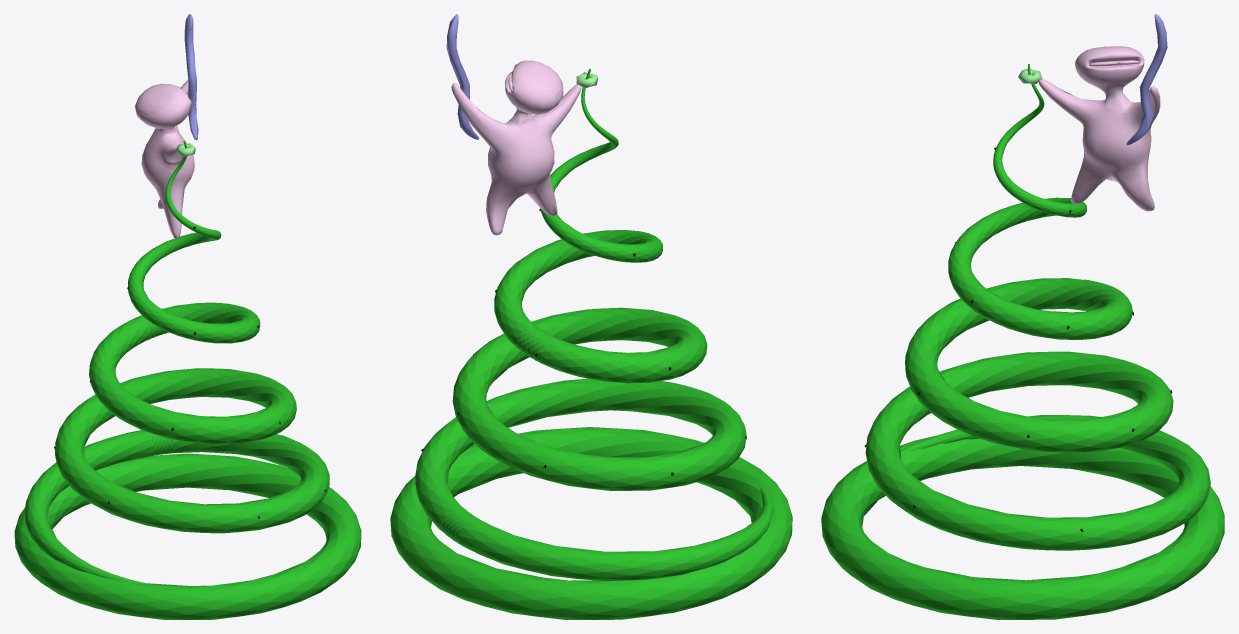
The model's file is jokastree.glb.
3 renders of one model, left to right at view 1: azimuth 30°, elevation 25°; view 2: azimuth 150°, elevation 25°; view 3: azimuth 270°, elevation 25°, orthographic. The views are drawn at different scales.
Visible parts, largest first — view 1: jolka s igruskami; view 2: jolka s igruskami; view 3: jolka s igruskami.
Part boxes in pixels (box(x1,y1,x2,y2)): jolka s igruskami: box(14, 14, 361, 619); jolka s igruskami: box(390, 14, 792, 619); jolka s igruskami: box(821, 14, 1224, 619).
Size of the model in its own units: 62.53 by 95.87 by 62.48.
